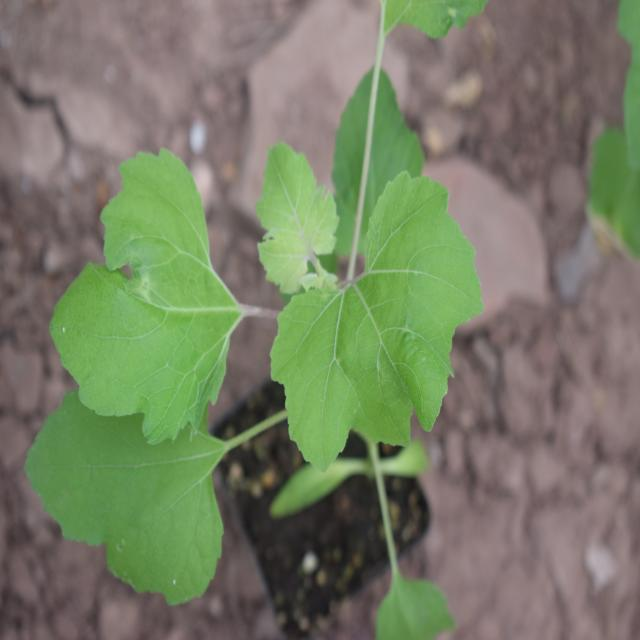cocklebur: (45, 80, 502, 583)
